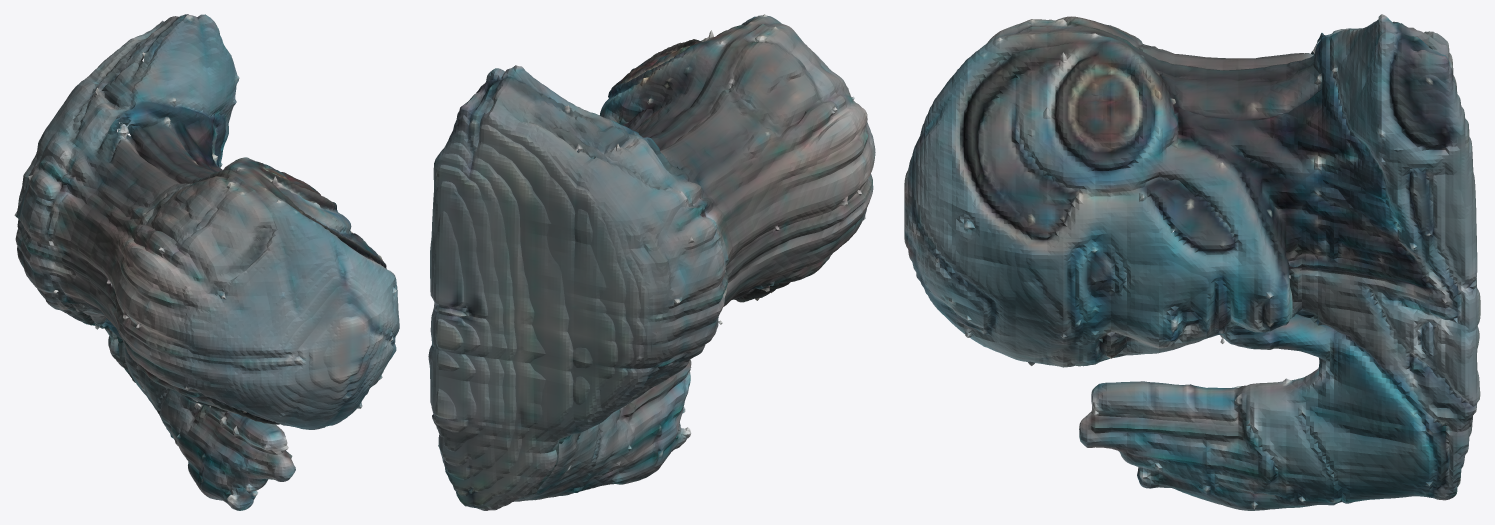
File: robot1.glb
The picture shows the model from 3 angles, left to right: view 1: azimuth 30°, elevation 25°; view 2: azimuth 150°, elevation 25°; view 3: azimuth 270°, elevation 25°; orthographic projection. The views are drawn at different scales.
Visible parts, largest first — view 1: world; view 2: world; view 3: world.
Boxes of the visible parts, x1=… form: world: x1=14, y1=14, x2=399, y2=510; world: x1=428, y1=14, x2=875, y2=510; world: x1=904, y1=14, x2=1480, y2=510.
Bounding box in the file's own units: 0.5832 × 0.9549 × 0.9846.
